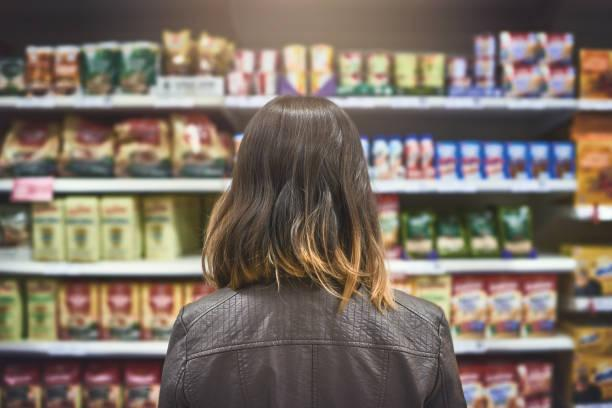Person: (158, 96, 465, 407)
article: (172, 114, 232, 177), (101, 196, 141, 260), (522, 276, 555, 334), (499, 205, 532, 254)
